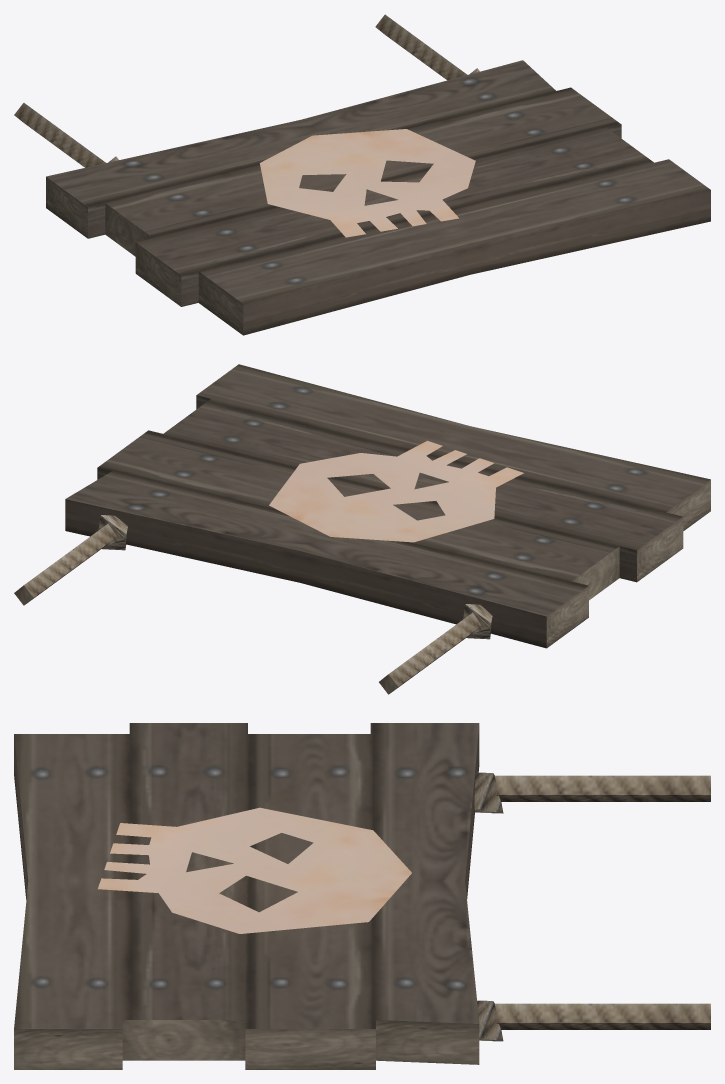
Rendered from Sign_Skull.fbx.
The picture shows the model from 3 angles, top to bottom: view 1: azimuth 30°, elevation 25°; view 2: azimuth 150°, elevation 25°; view 3: azimuth 270°, elevation 25°; orthographic projection. The views are drawn at different scales.
Parts seen in each view (by area): view 1: Sign_Skull; view 2: Sign_Skull; view 3: Sign_Skull.
Part boxes in pixels (x1,y1,x2,y2): Sign_Skull: (14, 14, 710, 335); Sign_Skull: (14, 364, 710, 694); Sign_Skull: (14, 723, 710, 1069).
Size of the model in its own units: 1.9 by 0.155 by 1.83.
